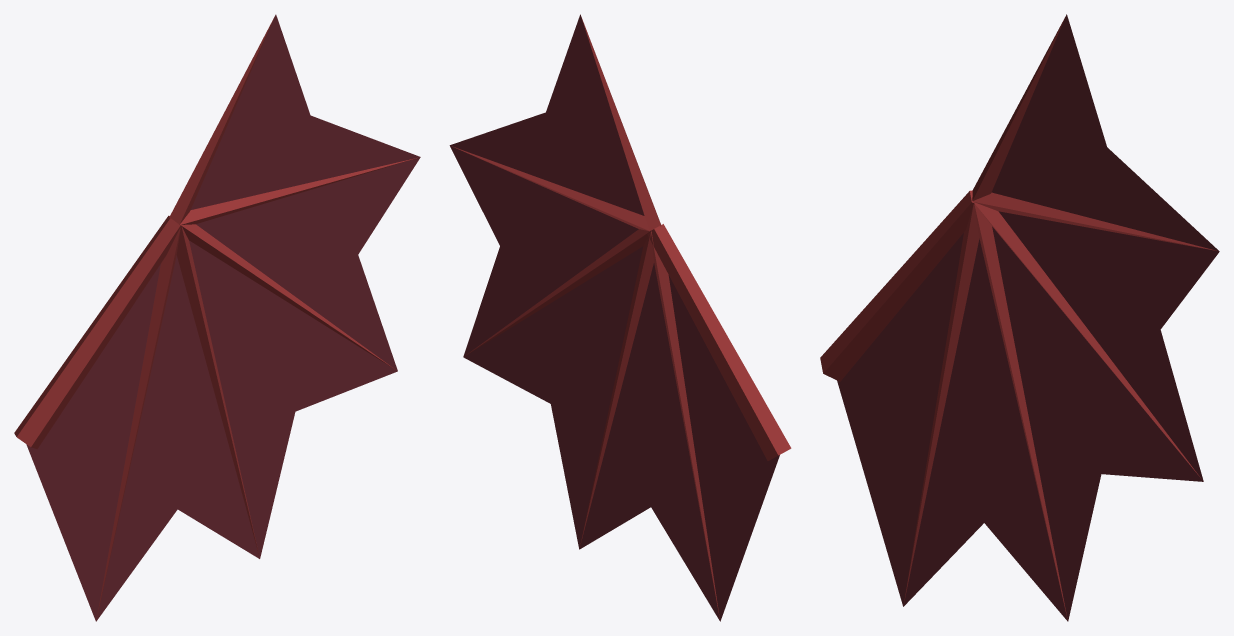
Rendered from DevilWing.obj.
3 renders of one model, left to right at view 1: azimuth 30°, elevation 25°; view 2: azimuth 150°, elevation 25°; view 3: azimuth 330°, elevation 25°, orthographic. The views are drawn at different scales.
Visible parts, largest first — view 1: DevilWing; view 2: DevilWing; view 3: DevilWing.
Part boxes in pixels (left/top/right/bottom): DevilWing: left=14, top=14, right=420, bottom=621; DevilWing: left=449, top=14, right=791, bottom=621; DevilWing: left=820, top=14, right=1219, bottom=621.
Bounding box in the file's own units: 1.03 × 1.5 × 0.1502.
1 material, 1 textured.
